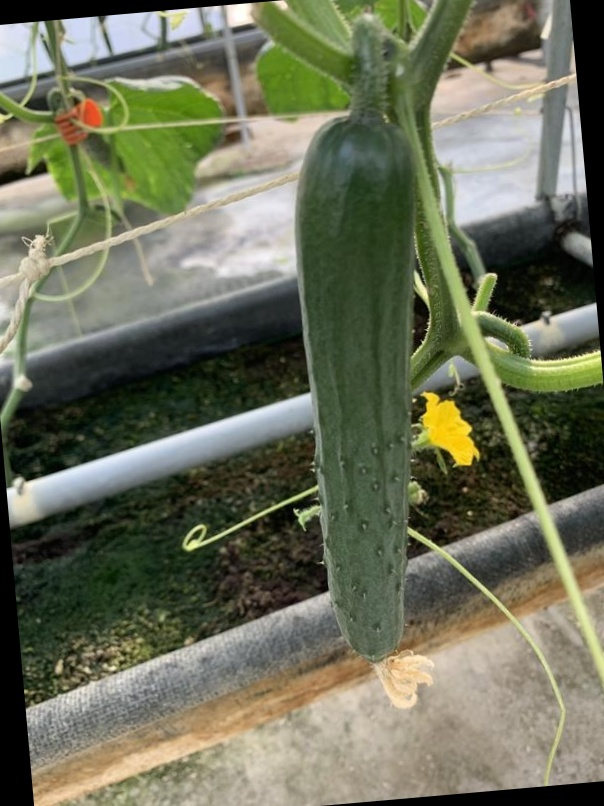mature: (284, 116, 457, 659)
